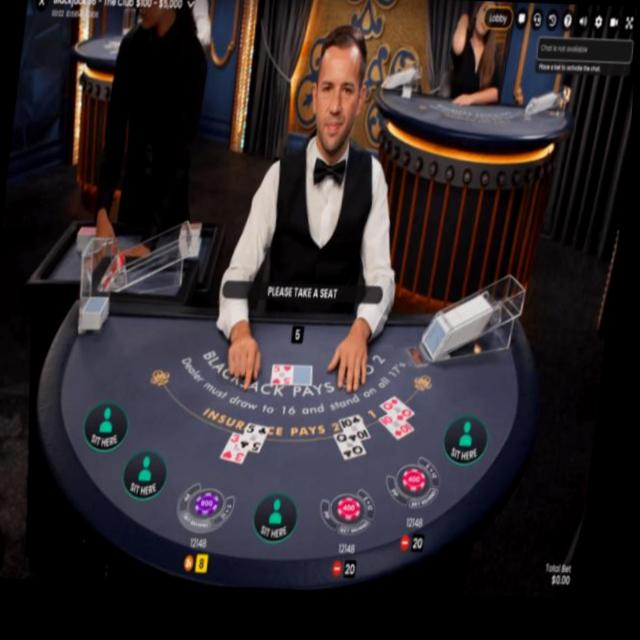Card-10: (345, 414, 376, 445), (386, 415, 420, 442)
Card-3: (226, 433, 254, 465)
Card-5: (247, 423, 276, 453), (276, 364, 300, 386)
Card-Q: (386, 397, 420, 424), (340, 433, 372, 460)
